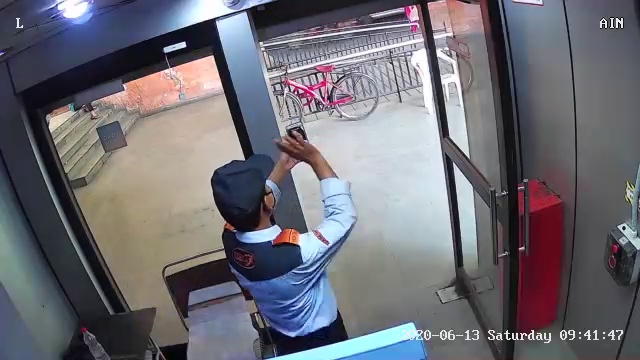open: (402, 7, 549, 358)
